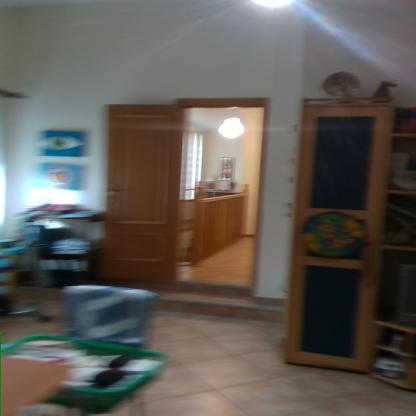open: (100, 89, 288, 304)
